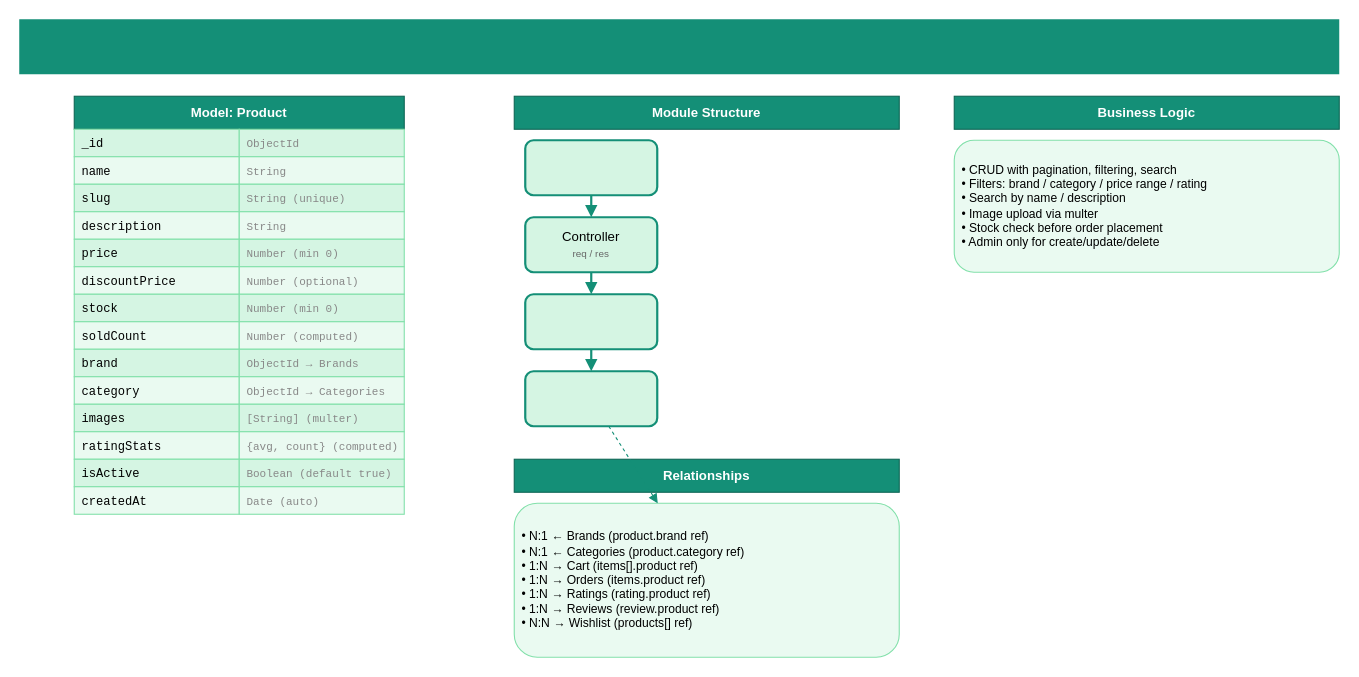
This 1359x677 diagram has some shape labels left out. Each missing label, with the centre of its shape:
Model Mongoose schema: (x=591, y=398)
PRODUCTS MODULE Product Management, Inventory & Catalog: (x=679, y=46)
Route express-validator: (x=591, y=167)
Service pagination, filters, stock: (x=591, y=321)
